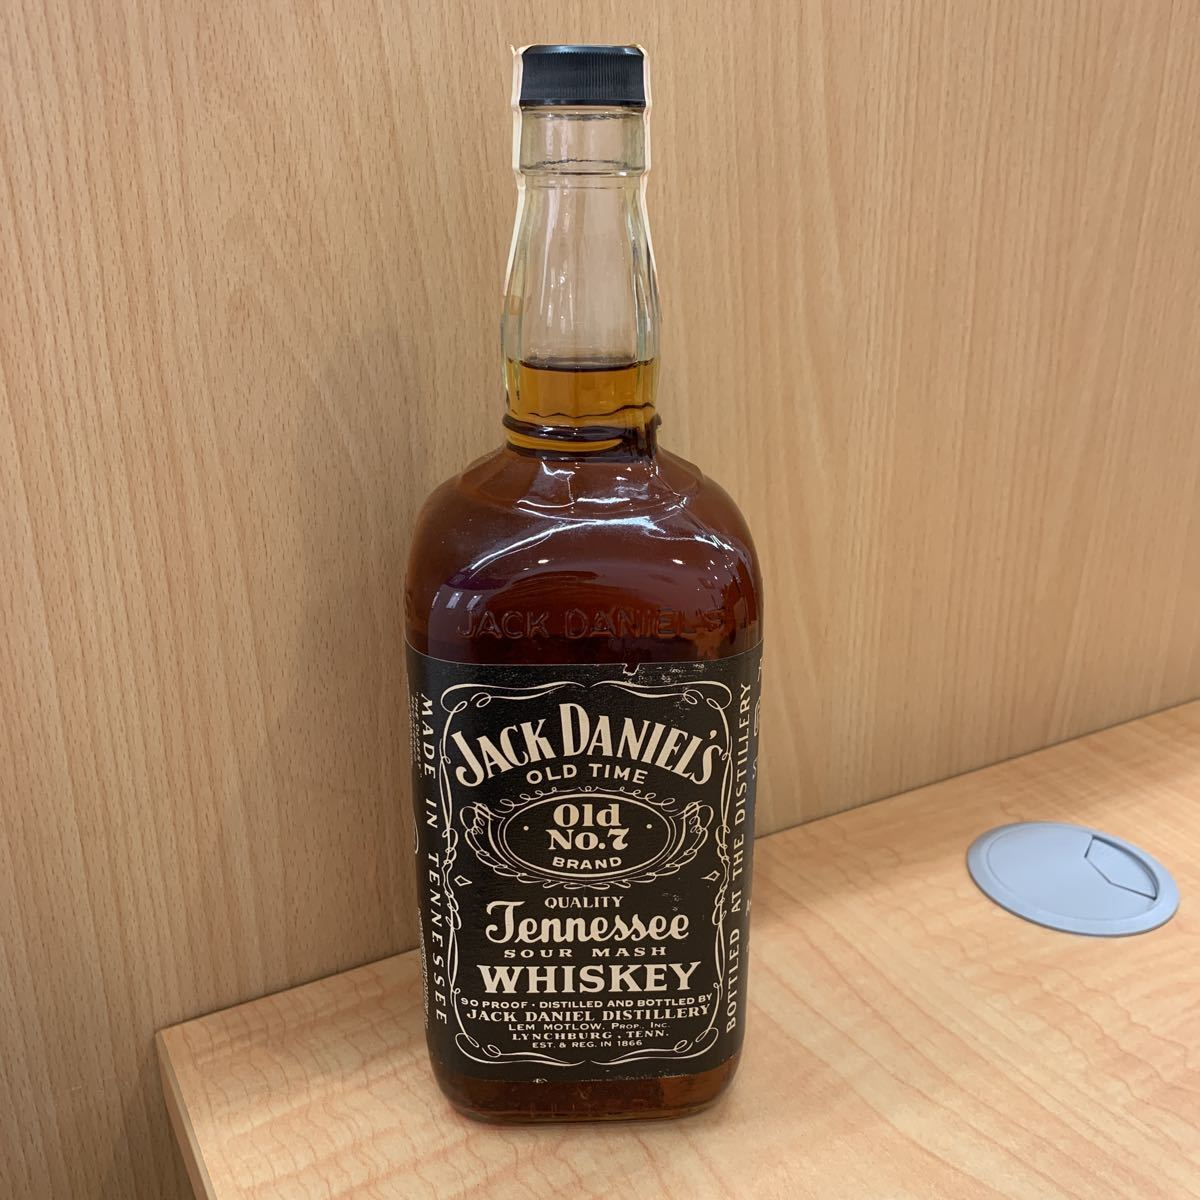Jack Daniel: (384, 33, 780, 1144)
